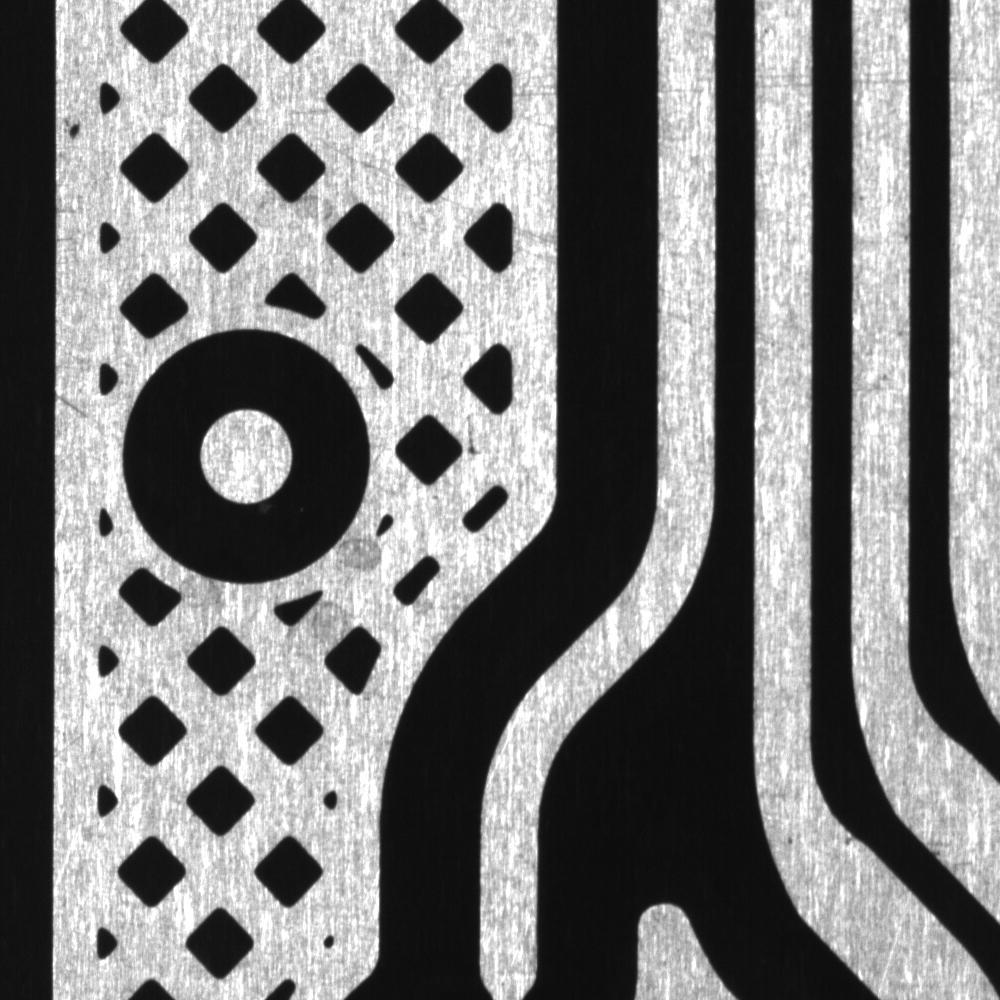Discolor: (330, 527, 390, 587), (305, 598, 360, 651)
Etching: (457, 407, 500, 468), (779, 829, 800, 856)
Scar: (308, 120, 399, 194), (659, 264, 718, 347), (755, 314, 814, 380), (753, 53, 817, 109), (510, 209, 559, 274), (55, 380, 104, 436), (658, 62, 719, 101), (853, 60, 911, 99), (442, 193, 492, 217)
